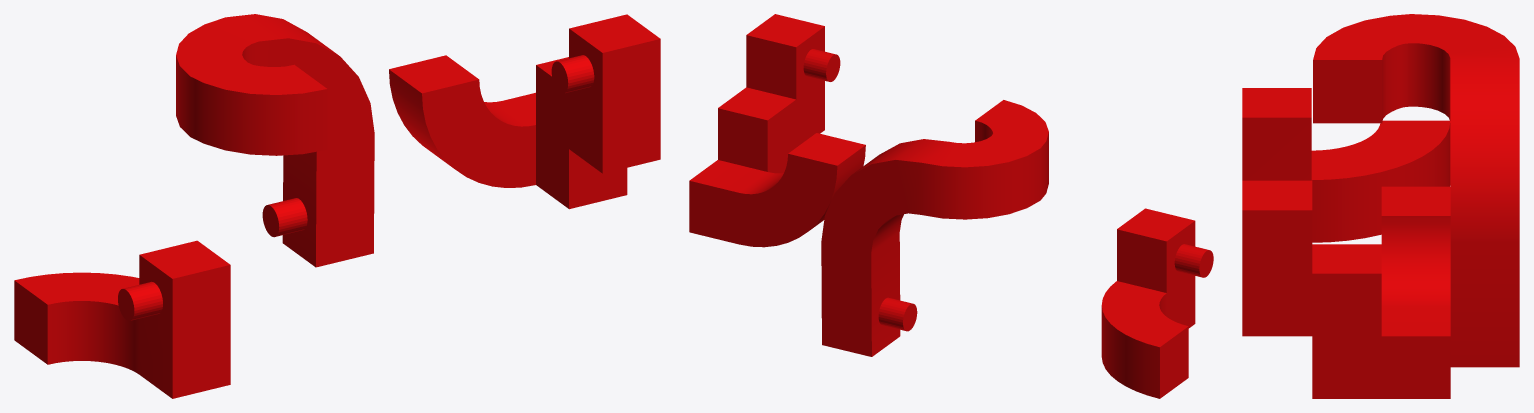
The model's file is square.glb.
The picture shows the model from 3 angles, left to right: view 1: azimuth 30°, elevation 25°; view 2: azimuth 150°, elevation 25°; view 3: azimuth 270°, elevation 25°; orthographic projection. The views are drawn at different scales.
Visible parts, largest first — view 1: 立方體.006, 立方體.005, 立方體.004; view 2: 立方體.006, 立方體.005, 立方體.004; view 3: 立方體.006, 立方體.005, 立方體.004.
Part boxes in pixels (x1=…): 立方體.006: x1=176, y1=14, x2=374, y2=267; 立方體.005: x1=389, y1=14, x2=660, y2=209; 立方體.004: x1=14, y1=240, x2=230, y2=398; 立方體.006: x1=821, y1=100, x2=1048, y2=356; 立方體.005: x1=689, y1=14, x2=865, y2=247; 立方體.004: x1=1101, y1=208, x2=1213, y2=398; 立方體.006: x1=1313, y1=14, x2=1519, y2=367; 立方體.005: x1=1242, y1=180, x2=1450, y2=398; 立方體.004: x1=1242, y1=88, x2=1450, y2=242.
Bounding box in the file's own units: 38.13 × 16.12 × 16.03.
